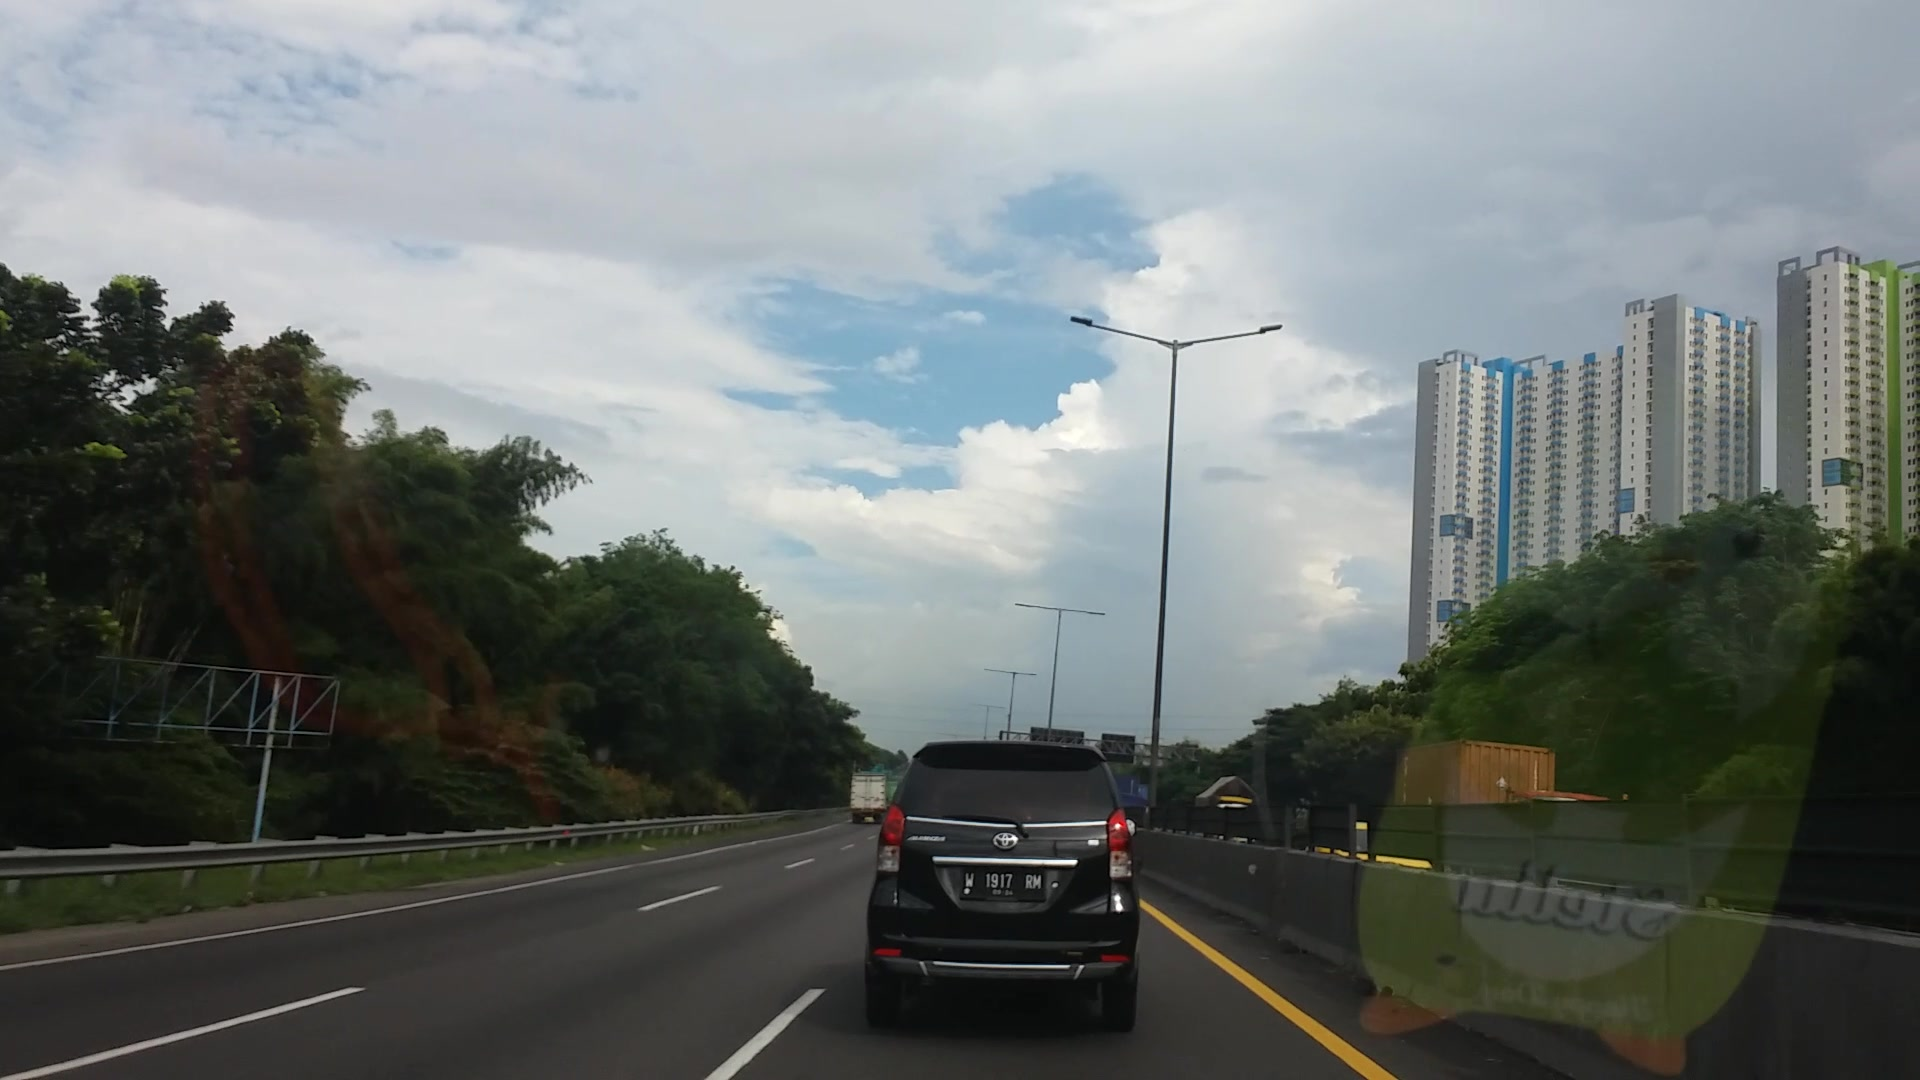plate_positive: (961, 868, 1043, 897)
